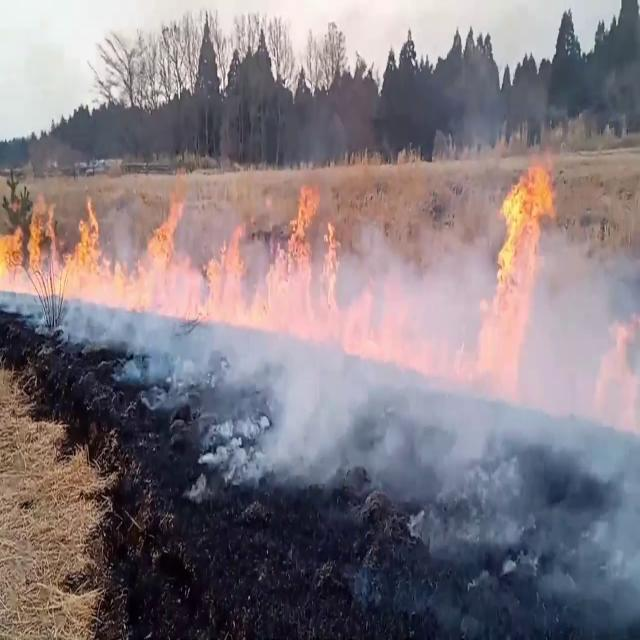Fire: (205, 167, 359, 340), (0, 178, 186, 304), (492, 146, 561, 306)
Smoke: (228, 270, 640, 556)
